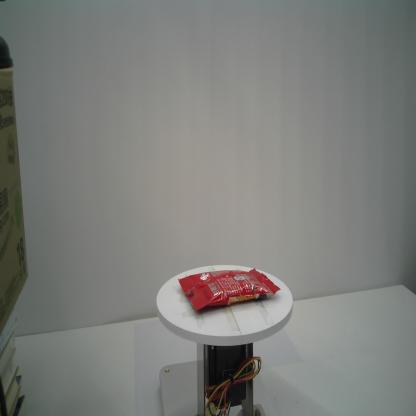Instant Drink: (177, 267, 283, 312)
